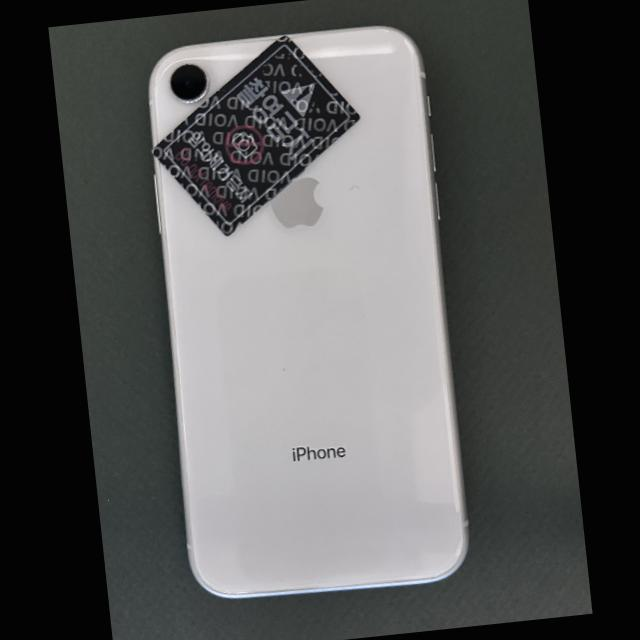lens: (170, 64, 207, 100)
phone: (149, 24, 470, 600)
sticker: (152, 34, 360, 237)
